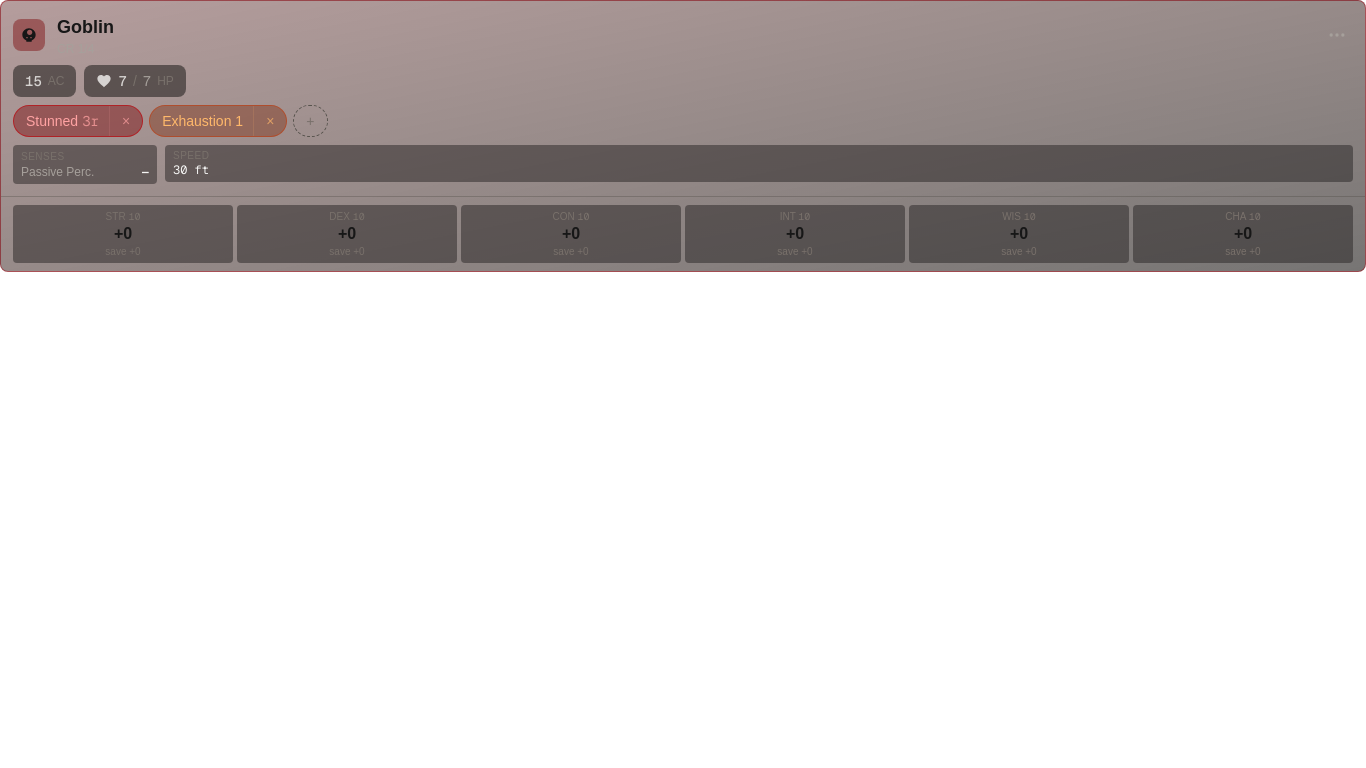
condition chips + picker › shows remaining rounds on the chip; Exhaustion gets no duration control
Expected: the text with test id "condition-duration" reads "3r", [82, 112, 99, 130]
Expected: the button named "Remove Stunned from Goblin" is shown, [109, 106, 142, 136]
What coordinates should you click on to do the following:
click the button named "Add condition to Goblin"
I would click on:
 (310, 121)
Its box is [293, 105, 328, 137].
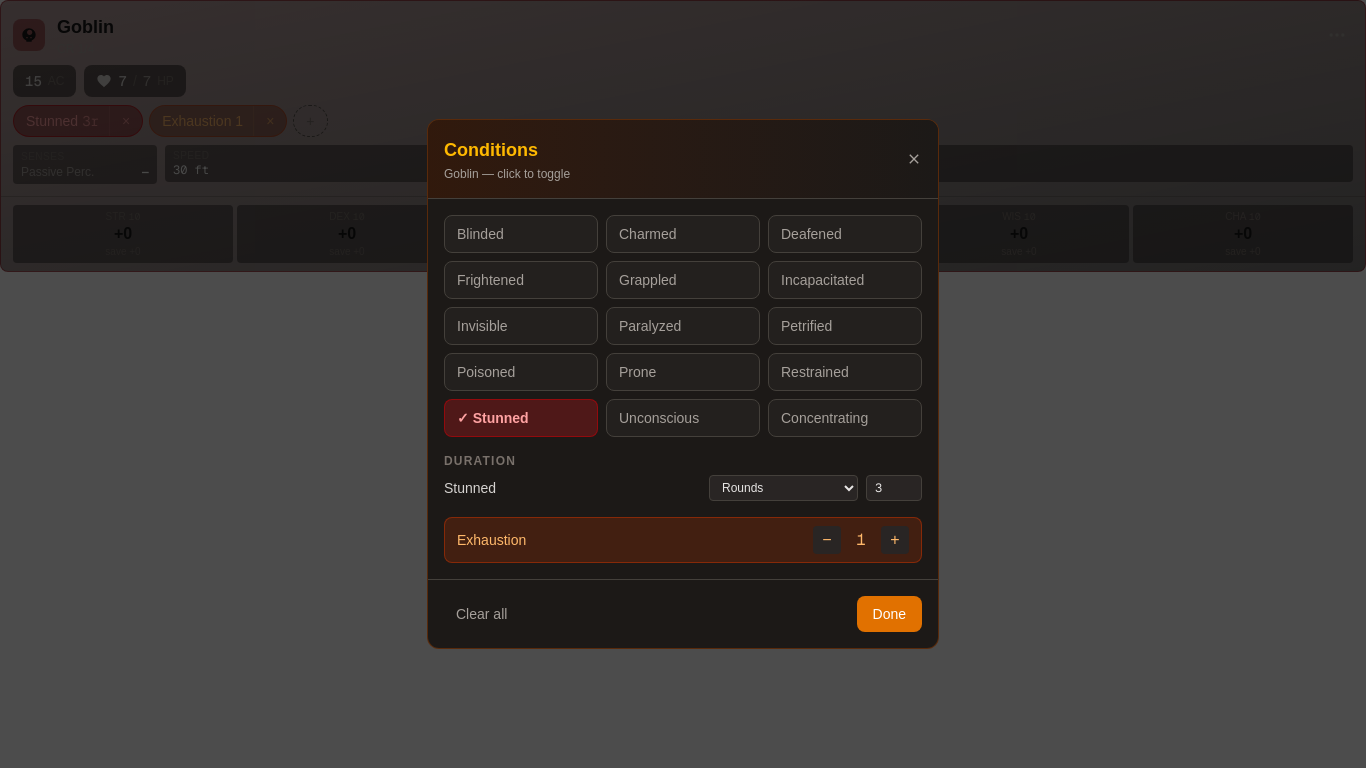
Expected: the dropdown named "Stunned duration" shows "Rounds", [709, 475, 858, 501]
Expected: the number field named "Stunned rounds" holds "3", [866, 475, 922, 501]
